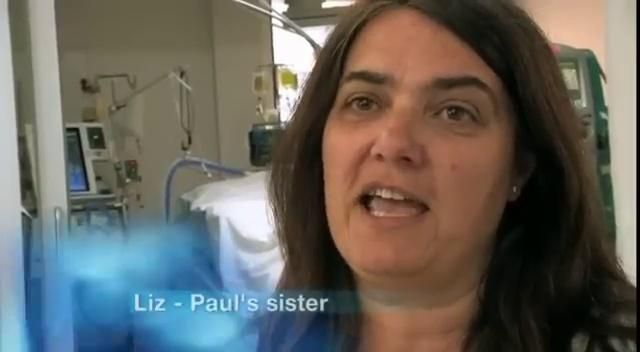others: (251, 1, 633, 352)
